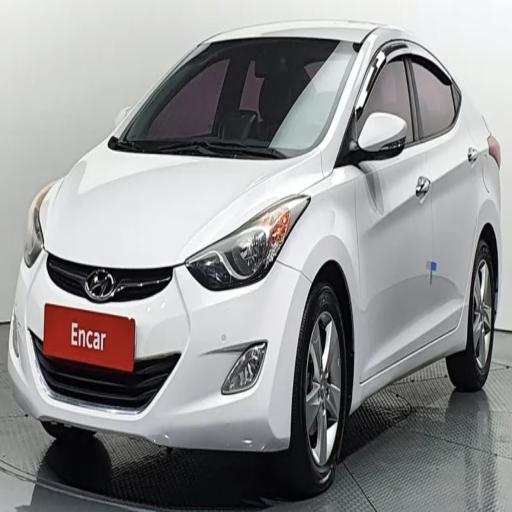normal: (12, 0, 512, 469)
